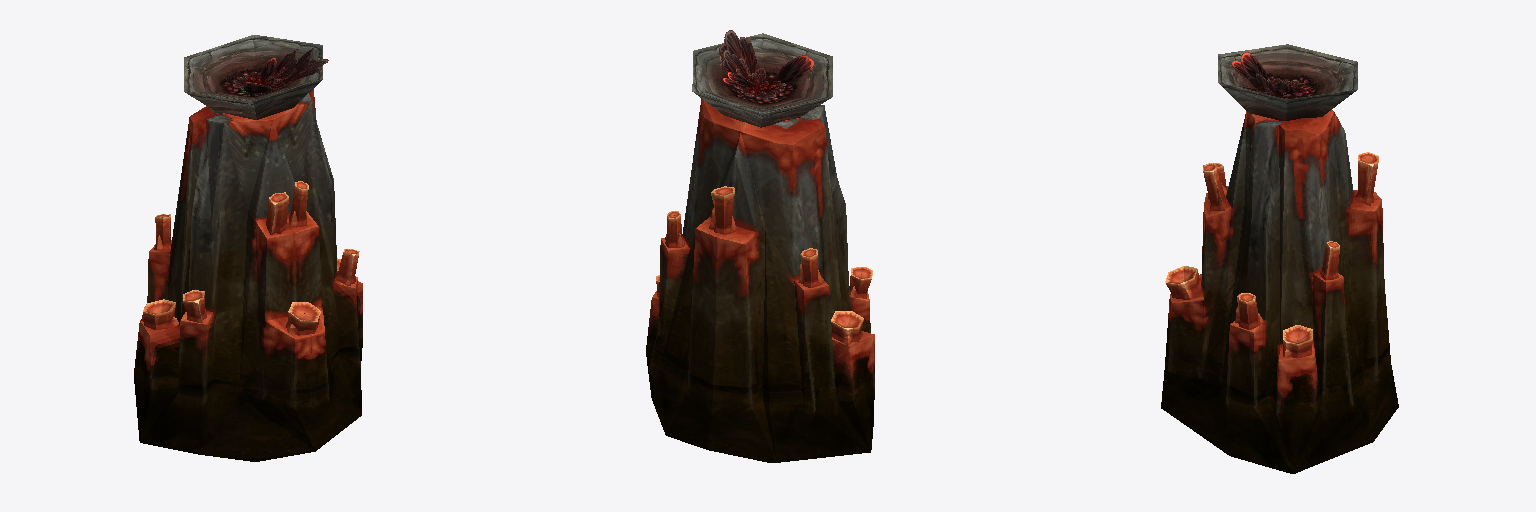
3 renders of one model, left to right at view 1: azimuth 30°, elevation 25°; view 2: azimuth 150°, elevation 25°; view 3: azimuth 270°, elevation 25°, orthographic.
Visible parts, largest first — view 1: snobold_warningrock02_hibatch; view 2: snobold_warningrock02_hibatch; view 3: snobold_warningrock02_hibatch.
Part boxes in pixels (x1,y1,x2,y2): snobold_warningrock02_hibatch: (134, 35, 362, 461); snobold_warningrock02_hibatch: (646, 30, 874, 462); snobold_warningrock02_hibatch: (1161, 44, 1398, 473).
Size of the model in its own units: 3.25 by 5.85 by 3.06.
Materials: 3 (3 with a texture image).